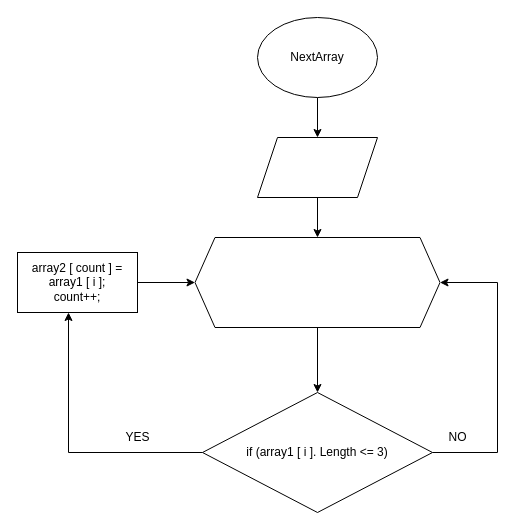
Image size: 523x530. Some labels were removed from this diagram. The shapes that lost their labels are listed below. From the top down, each one's centre as x and y in pixels, then its label:
(x=317, y=167): string[ ] array1 string[ ] array2 int count = 0
(x=317, y=282): for (int i = 0; i < array1.Length; i ++)
